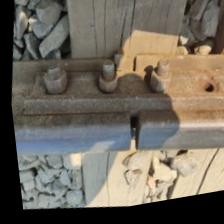person: (97, 100, 164, 172), (106, 44, 149, 93)
